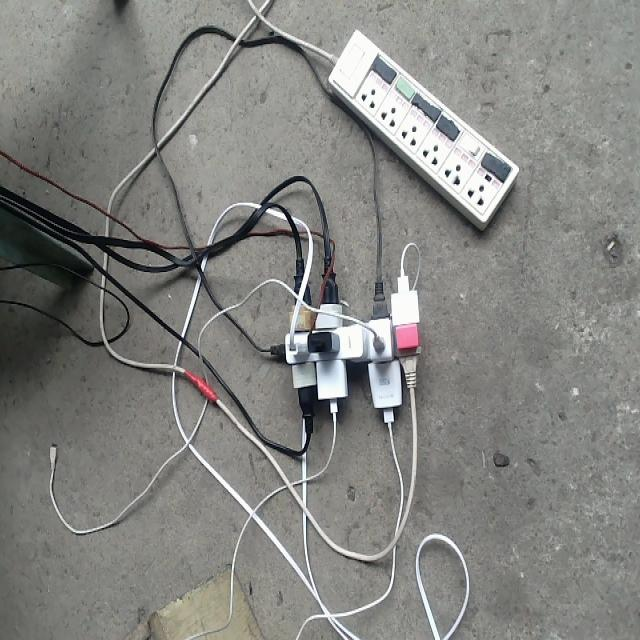-: (282, 277, 421, 411)
